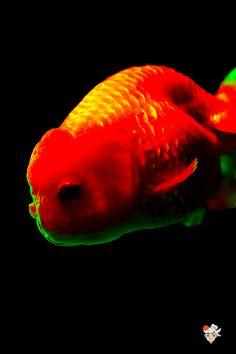goldfish: (22, 61, 236, 249)
